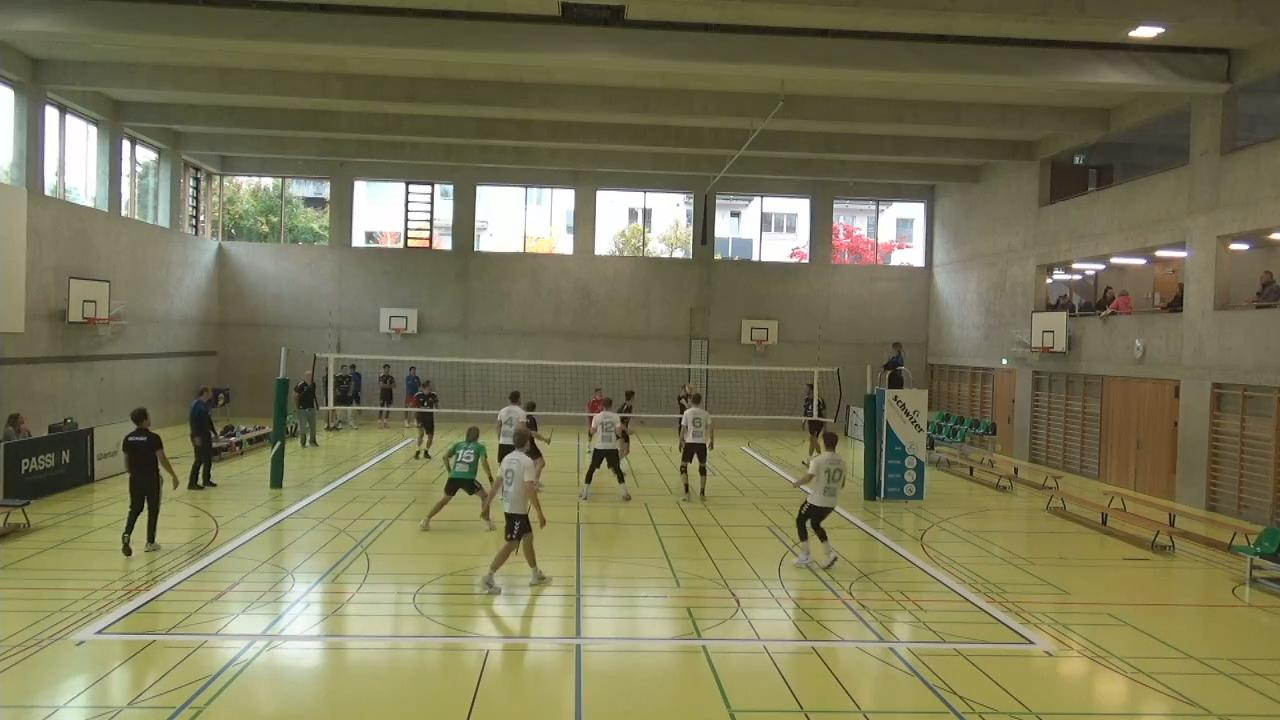Player: (481, 432, 548, 594), (420, 425, 492, 532), (791, 426, 844, 569), (578, 393, 632, 502), (676, 391, 712, 500), (516, 399, 556, 495), (797, 379, 828, 472), (412, 377, 441, 462), (492, 391, 524, 464), (582, 389, 612, 459), (616, 384, 637, 478)
Receive: (676, 381, 698, 432)
ball: (683, 384, 696, 395)
